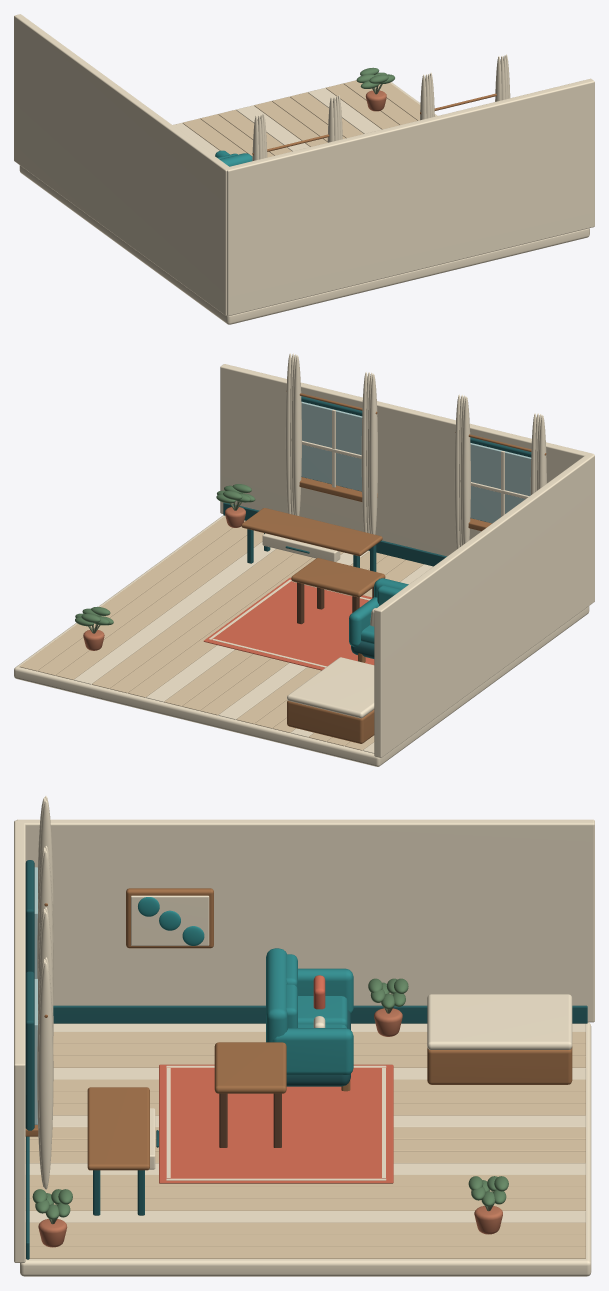
Rendered from HomeRoom.fbx.
3 renders of one model, top to bottom at view 1: azimuth 30°, elevation 25°; view 2: azimuth 150°, elevation 25°; view 3: azimuth 270°, elevation 25°, orthographic. The views are drawn at different scales.
Visible parts, largest first — view 1: Architecture_NorthWall, Architecture_WestWall, Architecture_Floor, FloorBoard.013, FloorBoard.017, FloorBoard.012, FloorBoard.016, FloorBoard.014, FloorBoard.010, FloorBoard.009, FloorBoard.015, FloorBoard.011 (+2 smaller); view 2: Architecture_WestWall, Architecture_NorthWall, Living_Rug, Architecture_Floor, Window_Sky.001, PackingBench_Pad, FloorBoard.017, Window_Sky, FloorBoard.014, FloorBoard.015, FloorBoard.016, FloorBoard.018 (+21 smaller); view 3: Architecture_WestWall, Living_Rug, Architecture_Floor, PackingBench_Pad, FloorBoard.019, FloorBoard.018, FloorBoard.017, FloorBoard.016, FloorBoard.015, FloorBoard.014, Skirting_West, Architecture_NorthWall (+34 smaller).
Boxes of the visible parts, x1=… form: Architecture_NorthWall: x1=227, y1=78, x2=594, y2=316; Architecture_WestWall: x1=14, y1=14, x2=230, y2=315; Architecture_Floor: x1=19, y1=80, x2=589, y2=324; FloorBoard.013: x1=254, y1=101, x2=327, y2=146; FloorBoard.017: x1=326, y1=83, x2=399, y2=129; FloorBoard.012: x1=236, y1=105, x2=309, y2=151; FloorBoard.016: x1=308, y1=88, x2=381, y2=133; FloorBoard.014: x1=272, y1=97, x2=345, y2=141; FloorBoard.010: x1=200, y1=114, x2=273, y2=157; FloorBoard.009: x1=182, y1=118, x2=246, y2=154; FloorBoard.015: x1=290, y1=92, x2=363, y2=138; FloorBoard.011: x1=218, y1=110, x2=291, y2=155; Architecture_WestWall: x1=374, y1=453, x2=594, y2=757; Architecture_NorthWall: x1=220, y1=364, x2=594, y2=556; Living_Rug: x1=203, y1=577, x2=374, y2=670; Architecture_Floor: x1=14, y1=515, x2=589, y2=766; Window_Sky.001: x1=301, y1=401, x2=362, y2=491; PackingBench_Pad: x1=287, y1=657, x2=374, y2=718; FloorBoard.017: x1=55, y1=530, x2=263, y2=679; Window_Sky: x1=470, y1=443, x2=531, y2=523; FloorBoard.014: x1=110, y1=553, x2=312, y2=693; FloorBoard.015: x1=92, y1=549, x2=293, y2=688; FloorBoard.016: x1=74, y1=541, x2=275, y2=684; FloorBoard.018: x1=37, y1=520, x2=247, y2=675; Architecture_WestWall: x1=17, y1=819, x2=594, y2=1022; Living_Rug: x1=159, y1=1064, x2=393, y2=1183; Architecture_Floor: x1=20, y1=1022, x2=591, y2=1276; PackingBench_Pad: x1=427, y1=994, x2=572, y2=1049; FloorBoard.019: x1=25, y1=1246, x2=585, y2=1258; FloorBoard.018: x1=25, y1=1234, x2=585, y2=1246; FloorBoard.017: x1=25, y1=1222, x2=585, y2=1234; FloorBoard.016: x1=25, y1=1211, x2=585, y2=1222; FloorBoard.015: x1=25, y1=1199, x2=585, y2=1210; FloorBoard.014: x1=25, y1=1187, x2=585, y2=1198; Skirting_West: x1=53, y1=1005, x2=587, y2=1023; Architecture_NorthWall: x1=14, y1=820, x2=25, y2=1262.
Size of the model in its own units: 793 by 401 by 793.
